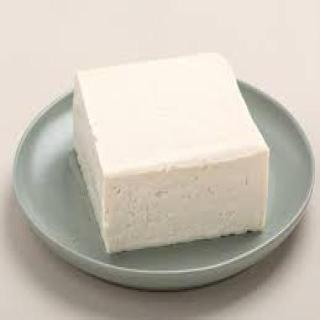Tahu: (60, 48, 286, 277)
